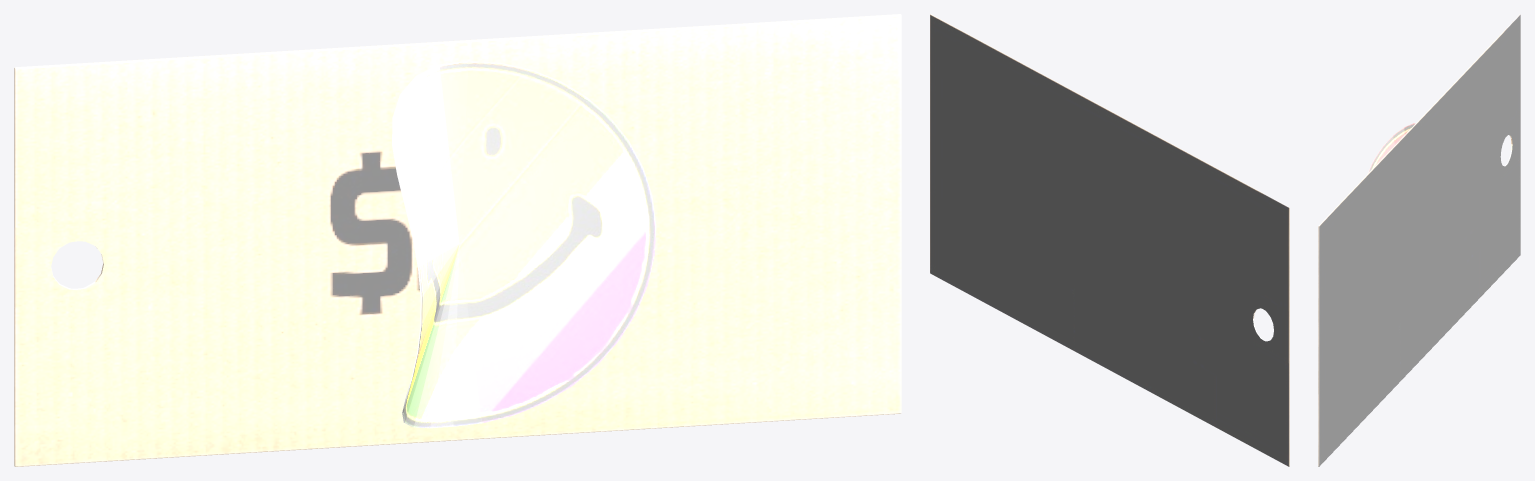
Rendered from pegatina.gltf.
The picture shows the model from 3 angles, left to right: view 1: azimuth 30°, elevation 25°; view 2: azimuth 150°, elevation 25°; view 3: azimuth 270°, elevation 25°; orthographic projection. The views are drawn at different scales.
Visible parts, largest first — view 1: Cube, Cylinder; view 2: Cube; view 3: Cube, Cylinder.
Boxes of the visible parts, x1,y1,x2,y2 form: Cube: (14, 14, 901, 466); Cylinder: (392, 61, 656, 428); Cube: (930, 14, 1289, 466); Cube: (1318, 14, 1520, 466); Cylinder: (1367, 123, 1415, 174).
Bounding box in the file's own units: 54.18 × 28.73 × 21.87.
